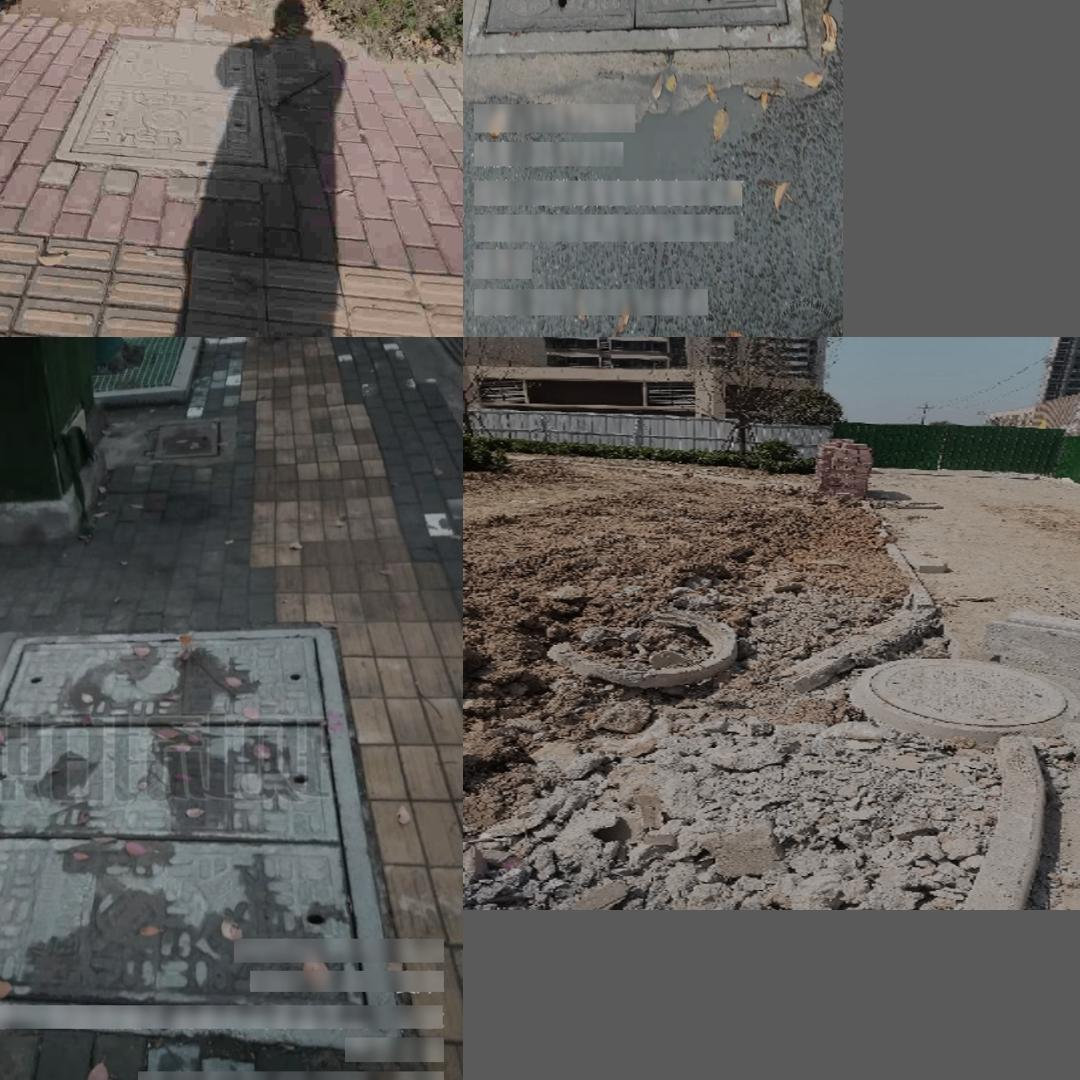good: (0, 624, 402, 1043), (53, 32, 277, 178), (466, 0, 807, 53), (857, 657, 1079, 729)
